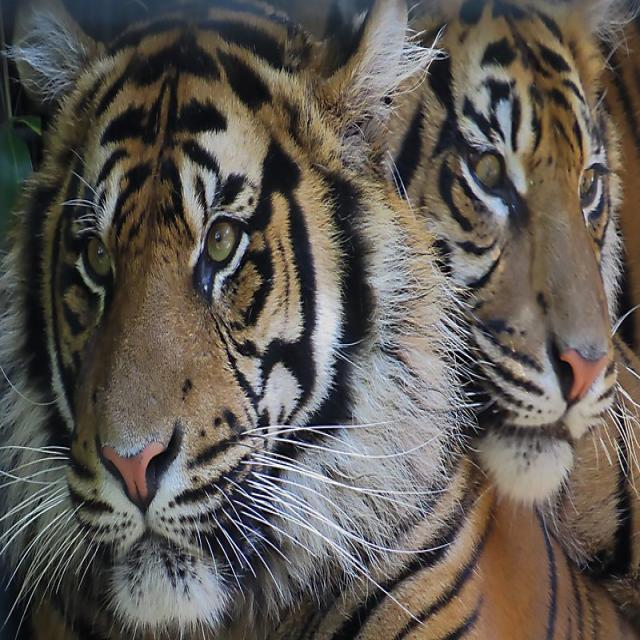Tiger: (5, 2, 469, 639), (383, 2, 638, 490)
